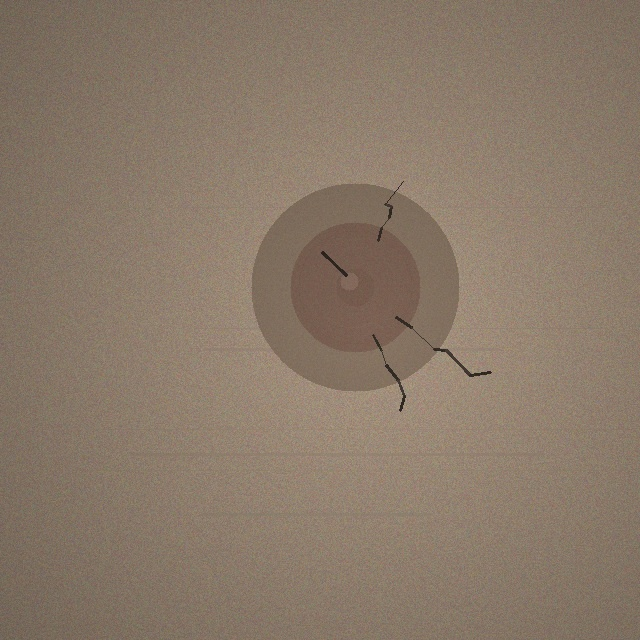crack: (251, 183, 459, 391)
